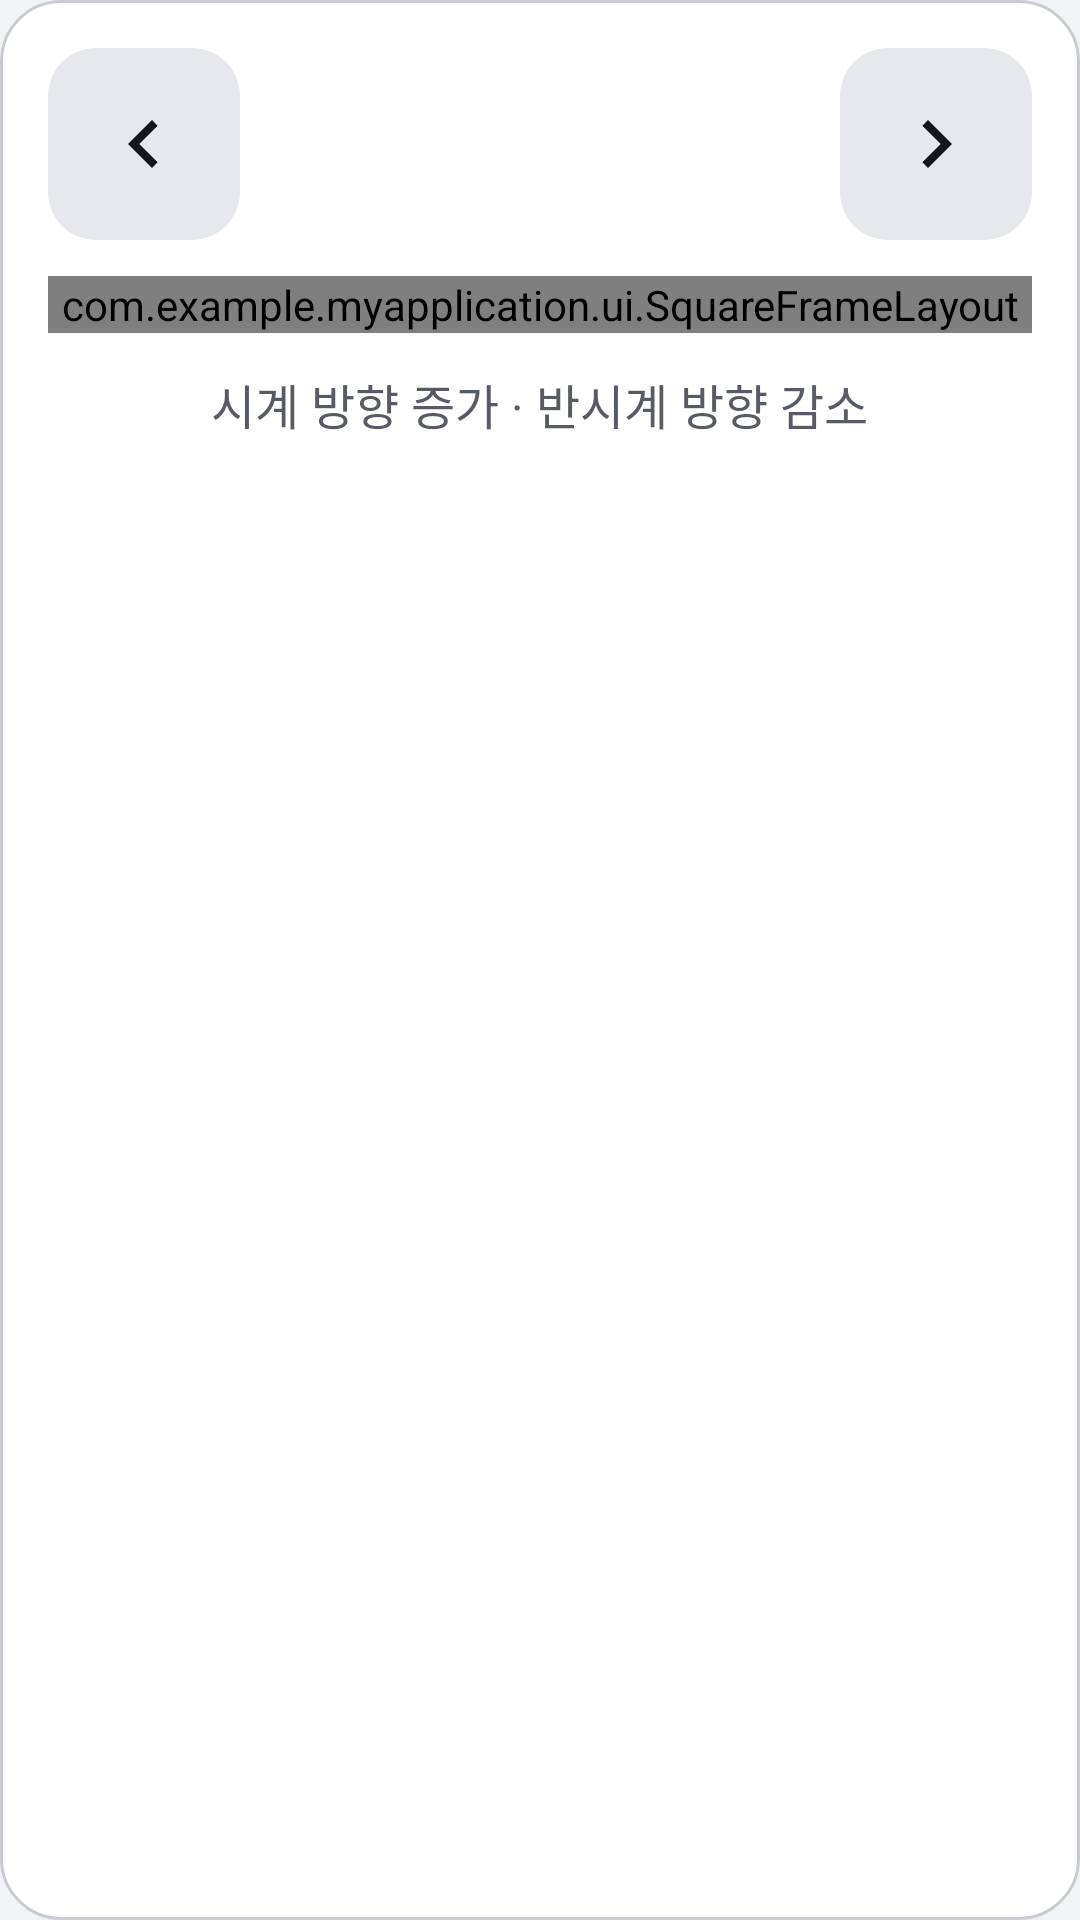

Where icons sit on this 1080 × 1920 app screen, as (x1, y1, x2, y2):
다음 기능: (840, 48, 1032, 240)
이전 기능: (48, 48, 240, 240)
